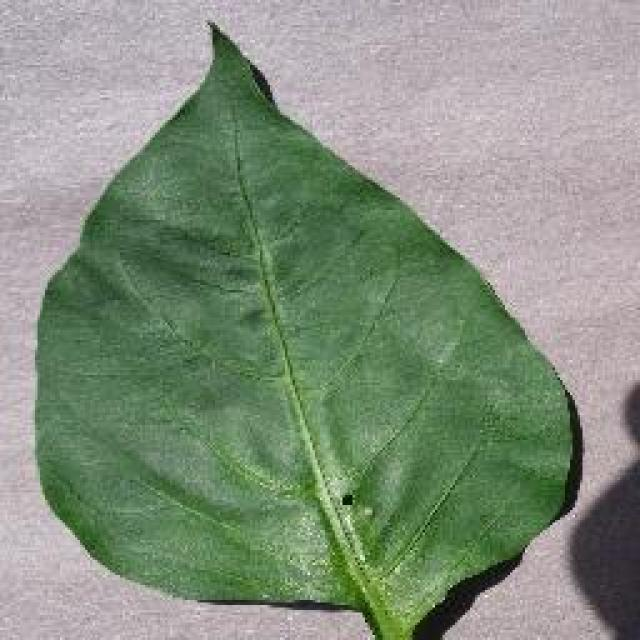Chilli_Healthy: (30, 18, 582, 638)
